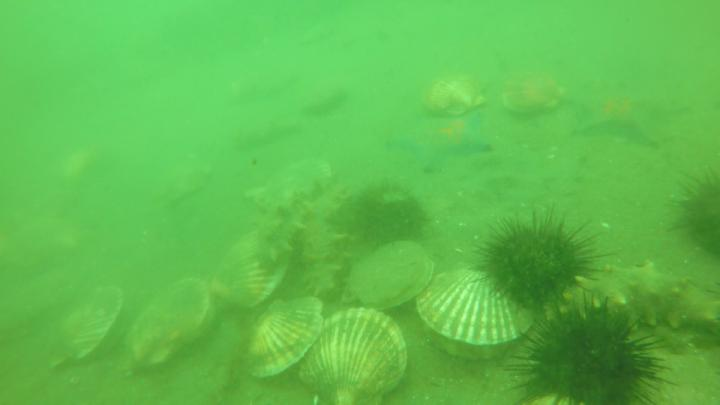echinus: (508, 294, 676, 405), (474, 204, 604, 317), (343, 176, 431, 248), (672, 157, 720, 260)
holothurian: (550, 253, 720, 335), (297, 190, 348, 293), (255, 201, 298, 275), (230, 117, 308, 152)
scallop: (420, 257, 539, 364), (300, 309, 412, 405), (122, 273, 215, 373), (42, 273, 129, 376), (242, 294, 329, 385), (342, 233, 439, 313), (212, 227, 295, 310), (246, 152, 338, 209), (496, 64, 574, 121), (424, 67, 494, 119)
starfish: (569, 83, 693, 151), (380, 112, 497, 176)
